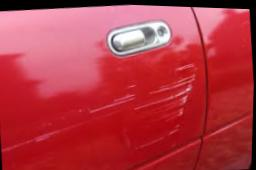Door: (40, 18, 205, 167)
